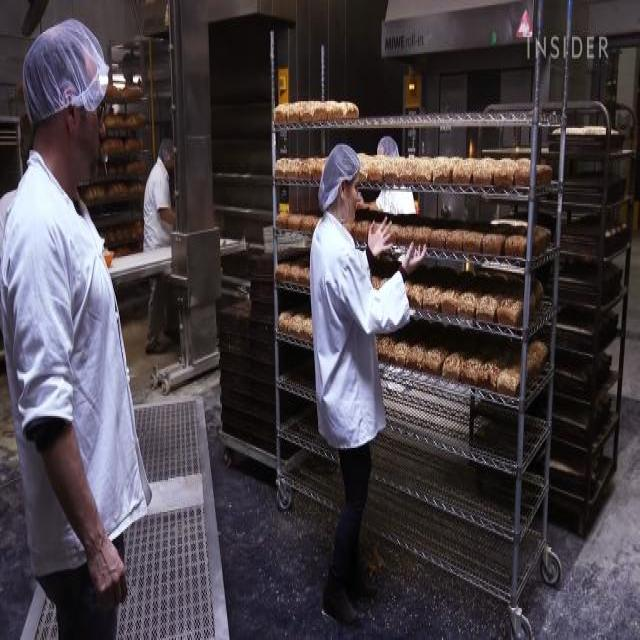hairnet: (26, 19, 106, 80), (317, 144, 360, 179), (376, 136, 398, 156), (159, 140, 173, 158)
